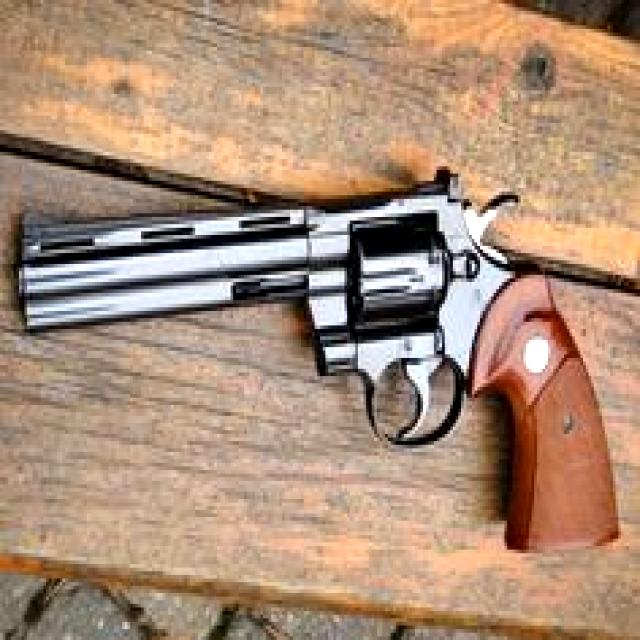revolver: (2, 115, 633, 573)
